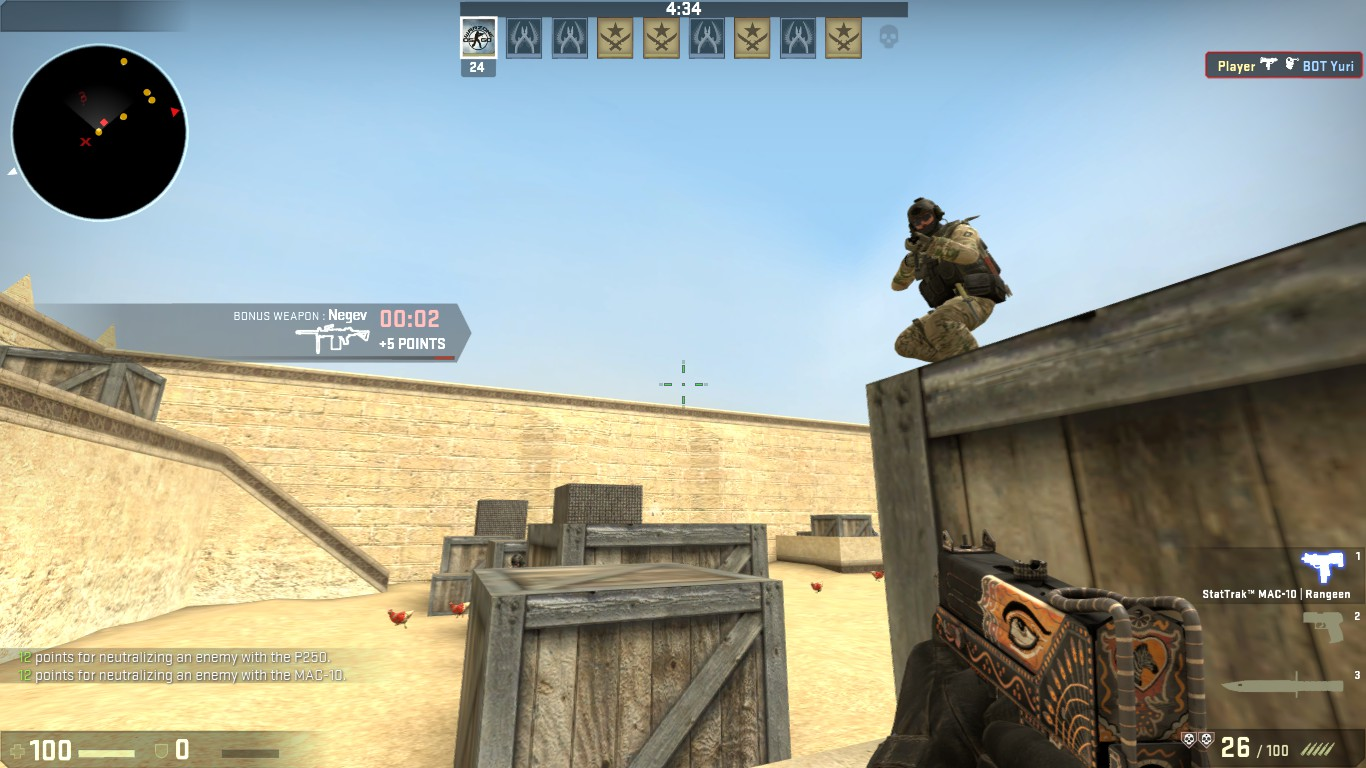c: (884, 193, 1000, 360)
ch: (903, 196, 946, 242)
